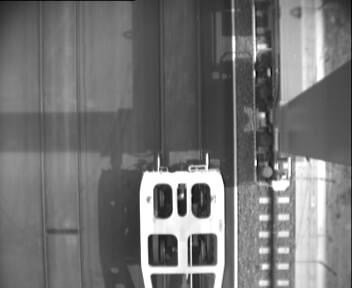twist_lock_2: (149, 181, 215, 222)
